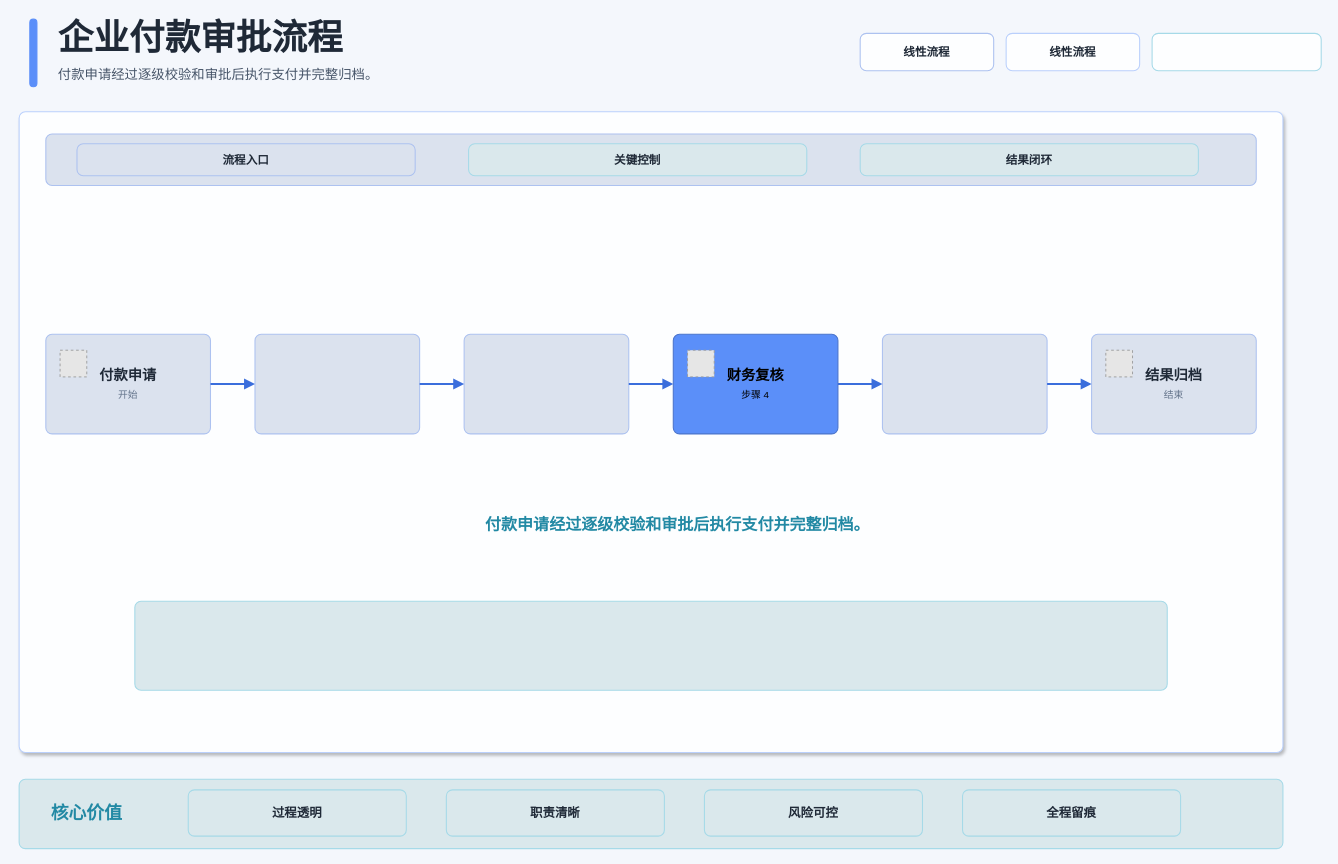
Some shapes in this 1338 by 864 pixel diagram are drawn without their labels. Grey dashed boxes stand in for pictures. The centre of each missing label's shape, as x and y in pixels:
Tech Blue: (x=1236, y=51)
关键控制点 入口校验 · 核心处理 · 异常兜底 · 结果闭环: (x=650, y=645)
材料校验 步骤 2: (x=337, y=383)
负责人审批 步骤 3: (x=546, y=383)
银行支付 步骤 5: (x=964, y=383)
